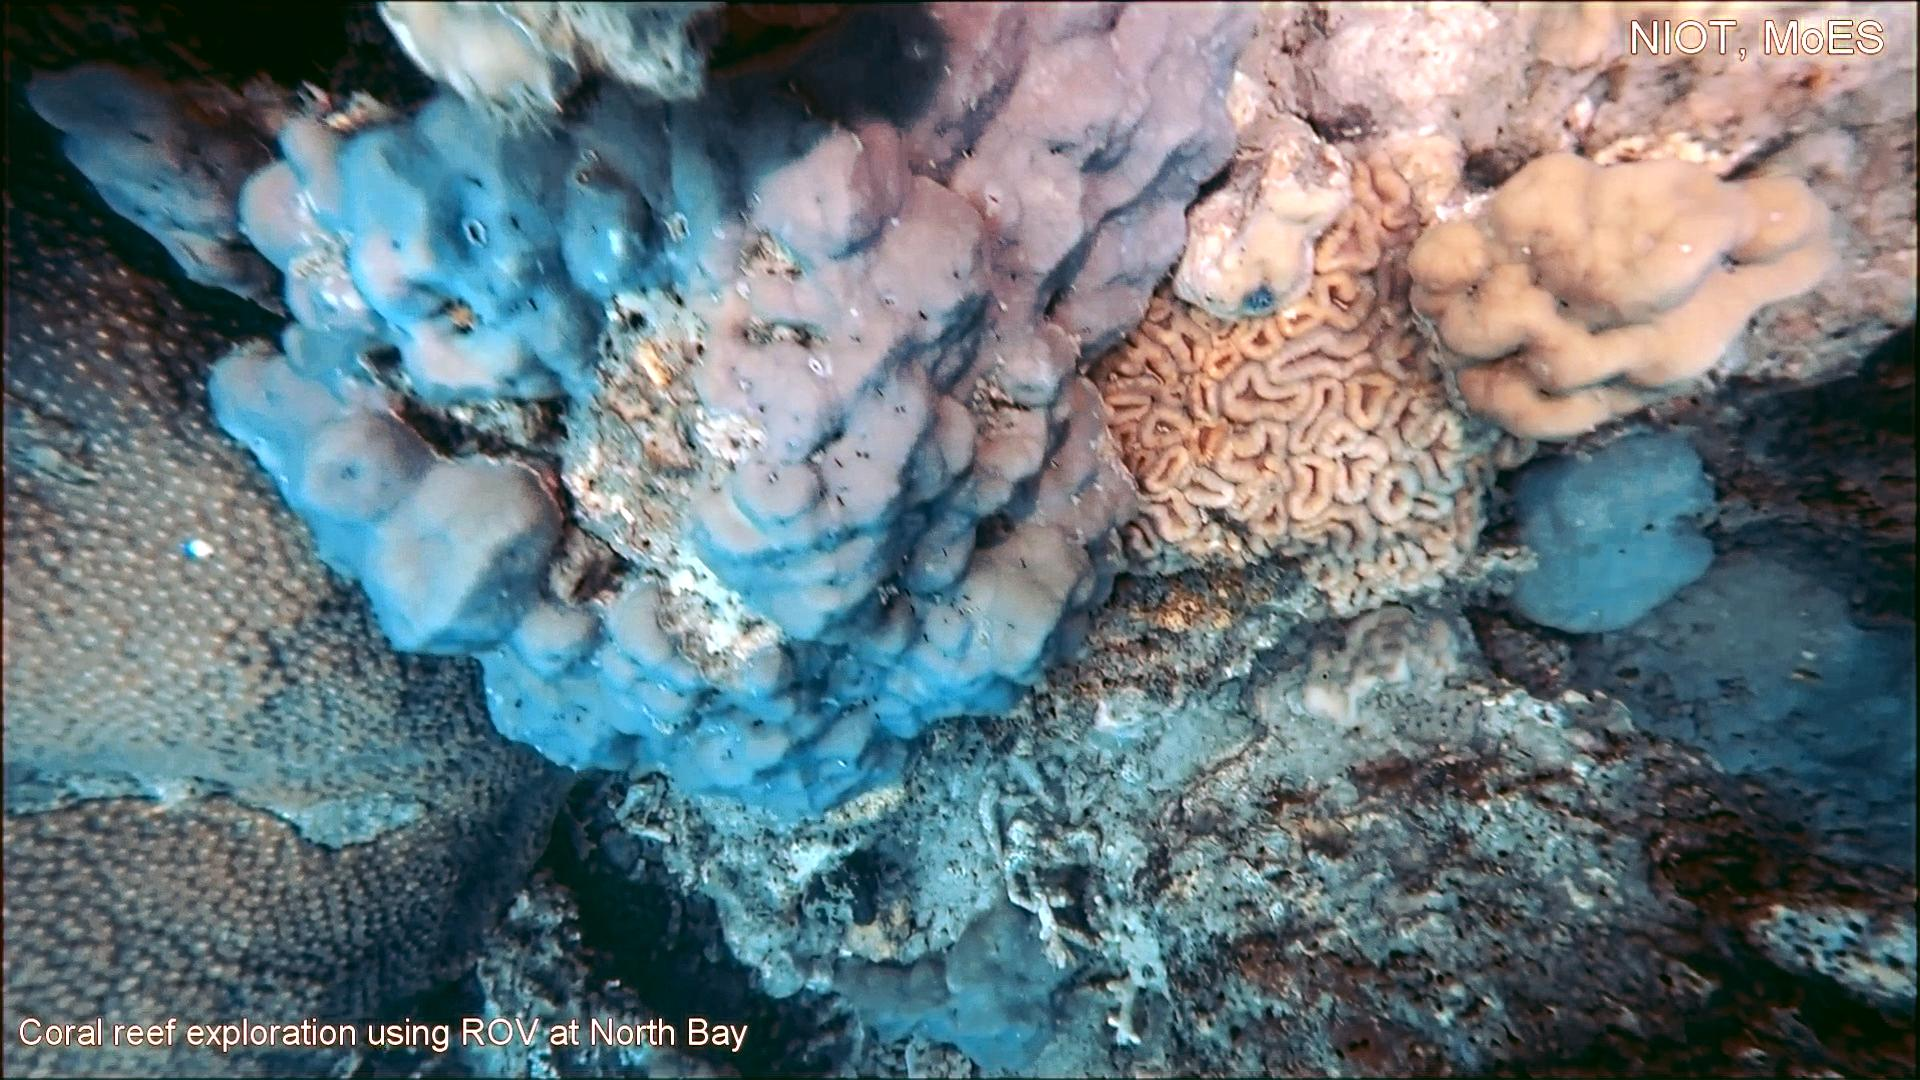Lobophyllia: (1072, 146, 1543, 628)
